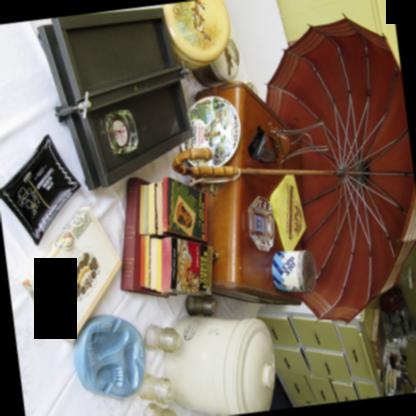suitcase: (189, 81, 301, 304)
